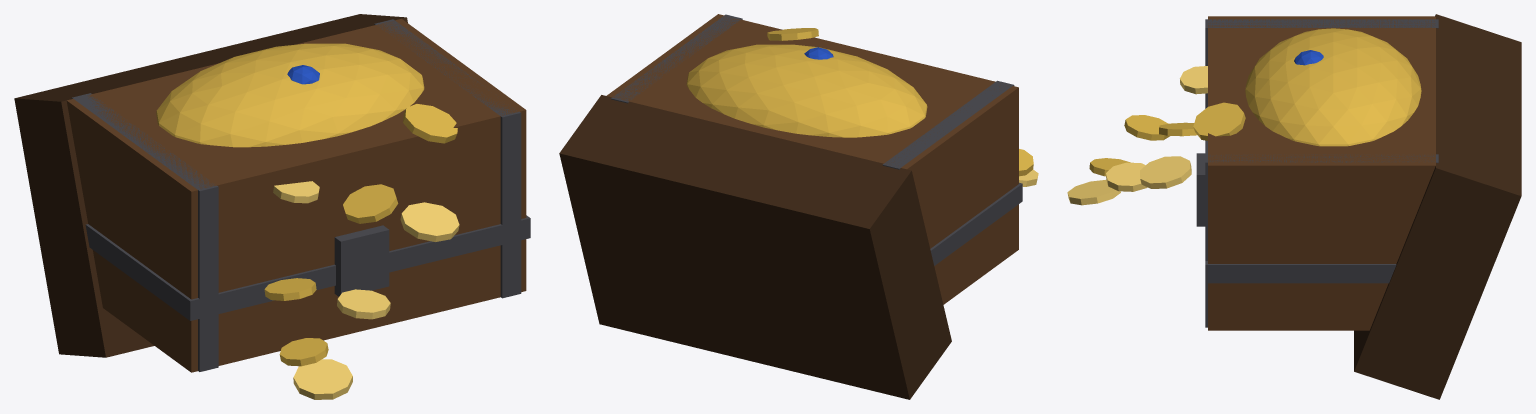
The model's file is treasury_gold_5.obj.
The picture shows the model from 3 angles, left to right: view 1: azimuth 30°, elevation 25°; view 2: azimuth 150°, elevation 25°; view 3: azimuth 270°, elevation 25°; orthographic projection. The views are drawn at different scales.
Parts seen in each view (by area): view 1: geometry_0, geometry_47, geometry_5, geometry_3, geometry_1, geometry_2, geometry_4, geometry_55, geometry_51, geometry_50, geometry_48, geometry_53 (+4 smaller); view 2: geometry_5, geometry_0, geometry_47, geometry_1, geometry_3, geometry_2, geometry_48; view 3: geometry_0, geometry_5, geometry_47, geometry_3, geometry_1, geometry_48, geometry_51, geometry_2, geometry_53, geometry_55, geometry_52, geometry_4 (+3 smaller).
Part boxes in pixels (x1,y1,x2,y2): geometry_0: [66, 18, 526, 372]; geometry_47: [156, 43, 424, 147]; geometry_5: [14, 14, 407, 357]; geometry_3: [85, 215, 530, 320]; geometry_1: [71, 93, 218, 371]; geometry_2: [374, 19, 521, 298]; geometry_4: [334, 225, 389, 296]; geometry_55: [293, 359, 352, 399]; geometry_51: [400, 202, 459, 241]; geometry_50: [343, 184, 398, 223]; geometry_48: [403, 104, 457, 143]; geometry_53: [337, 289, 390, 319]; geometry_5: [559, 95, 951, 399]; geometry_0: [606, 14, 1018, 304]; geometry_47: [686, 44, 927, 137]; geometry_1: [882, 80, 1014, 169]; geometry_3: [930, 182, 1022, 265]; geometry_2: [611, 14, 742, 103]; geometry_48: [767, 28, 818, 40]; geometry_0: [1208, 16, 1435, 330]; geometry_5: [1354, 14, 1521, 399]; geometry_47: [1245, 28, 1421, 146]; geometry_3: [1205, 140, 1396, 283]; geometry_1: [1205, 19, 1438, 108]; geometry_48: [1193, 102, 1245, 140]; geometry_51: [1140, 156, 1191, 188]; geometry_2: [1205, 154, 1438, 327]; geometry_53: [1106, 162, 1147, 191]; geometry_55: [1067, 180, 1120, 205]; geometry_52: [1124, 115, 1169, 140]; geometry_4: [1196, 153, 1207, 226].
Size of the model in its own units: 0.64 by 0.525 by 0.7974.
